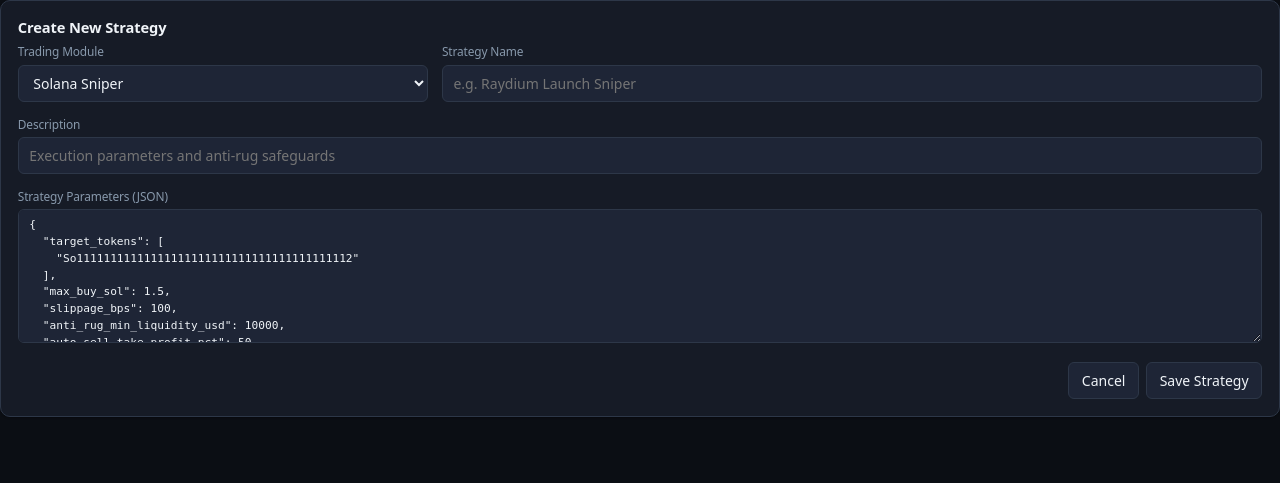
Test case: strategy form parameter object validation › rejects valid JSON that is not an object: 1
In the field with placeholder "e.g. Raydium Launch Sniper": (852, 83) [442,64,1262,102], type "Test strategy"
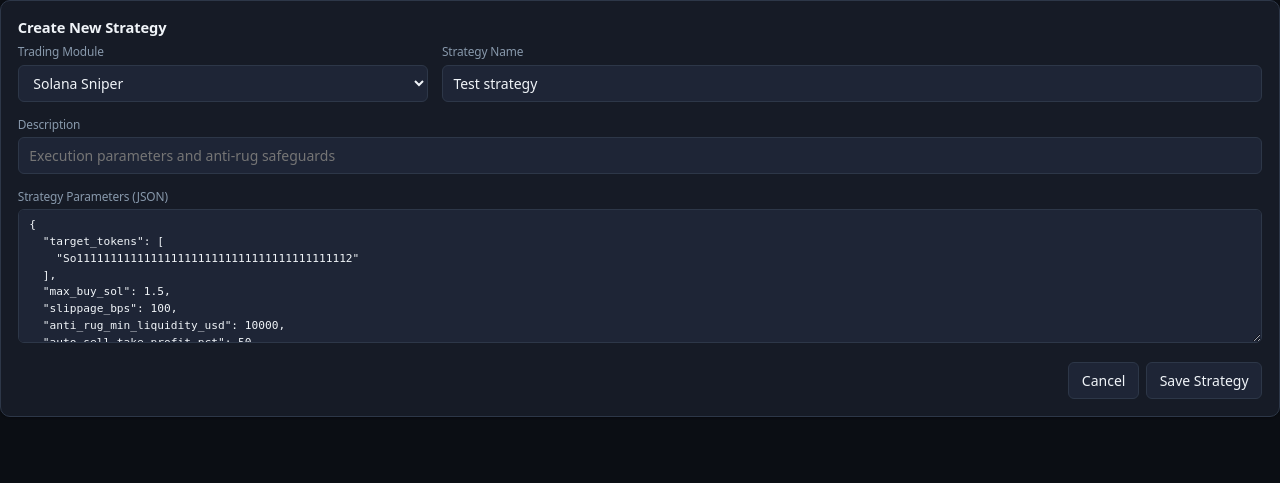
Replace the text in the text box with "1": (640, 276) [18,209,1262,343]
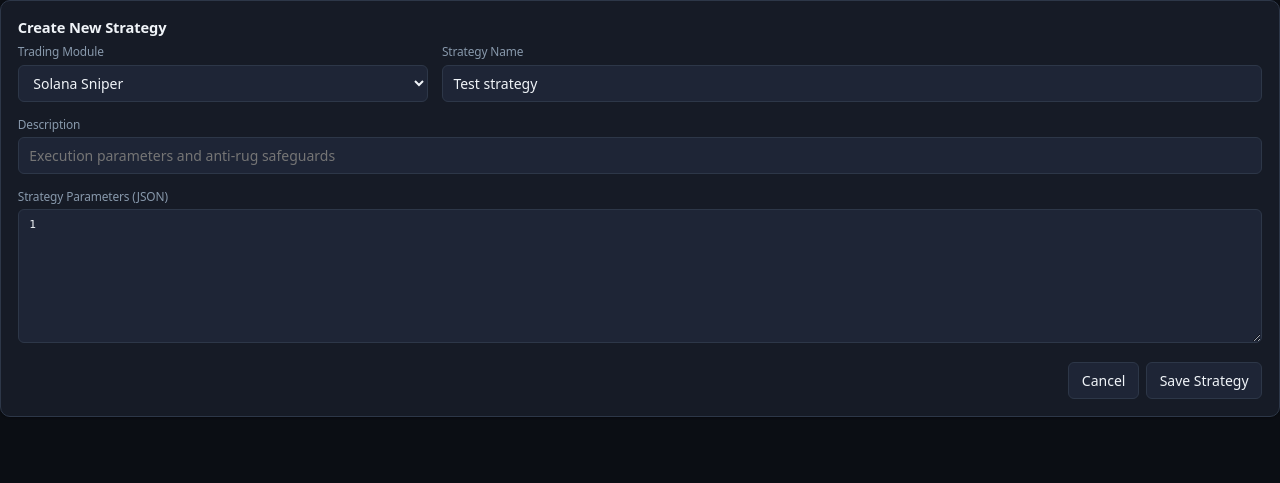
Click the button "Save Strategy": click(1204, 380) [1146,362,1262,399]
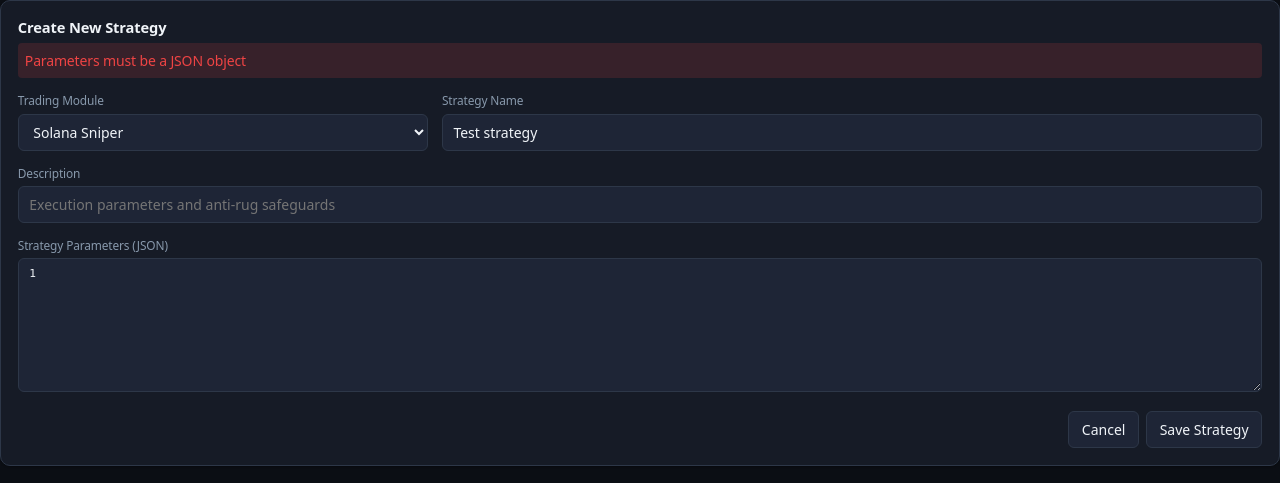
Expected: the text "Parameters must be a JSON object" is shown, [18,43,1262,78]
